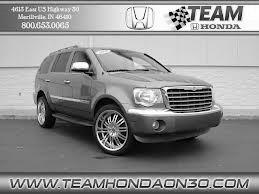car: (35, 42, 227, 160)
